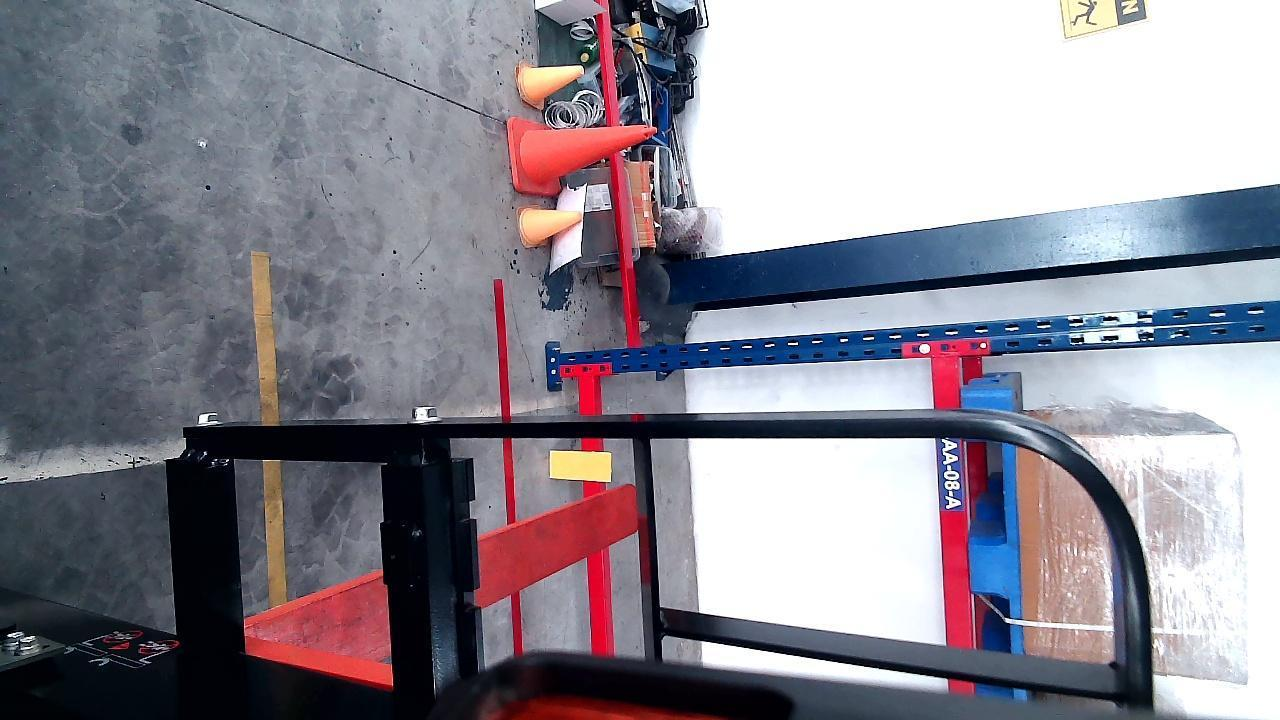h_rack: (935, 374, 973, 649), (578, 406, 616, 653), (0, 634, 185, 665)
orange_strip: (548, 447, 611, 481)
red_line: (490, 270, 525, 651)
small_pallet: (968, 404, 1023, 654)
yellow_line: (252, 244, 284, 609)
